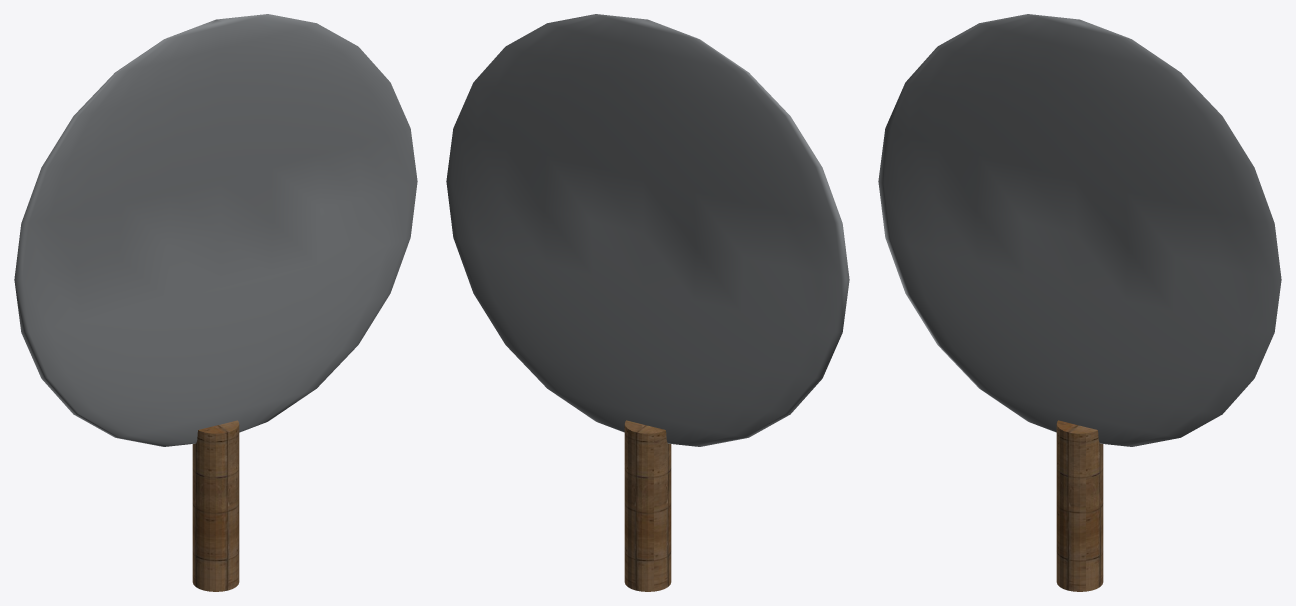
Rendered from espelho.glb.
3 views of the same model, side by side, from view 1: azimuth 30°, elevation 25°; view 2: azimuth 150°, elevation 25°; view 3: azimuth 330°, elevation 25° (orthographic).
Parts seen in each view (by area): view 1: Superfície polida, Empunhadura; view 2: Superfície polida, Empunhadura; view 3: Superfície polida, Empunhadura.
Part boxes in pixels (x1=…): Superfície polida: x1=14, y1=14, x2=417, y2=446; Empunhadura: x1=192, y1=420, x2=239, y2=591; Superfície polida: x1=446, y1=14, x2=849, y2=446; Empunhadura: x1=624, y1=420, x2=671, y2=591; Superfície polida: x1=878, y1=14, x2=1281, y2=446; Empunhadura: x1=1056, y1=420, x2=1103, y2=591.
Bounding box in the file's own units: 1.2 × 1.6 × 0.12.
2 materials, 1 textured.
